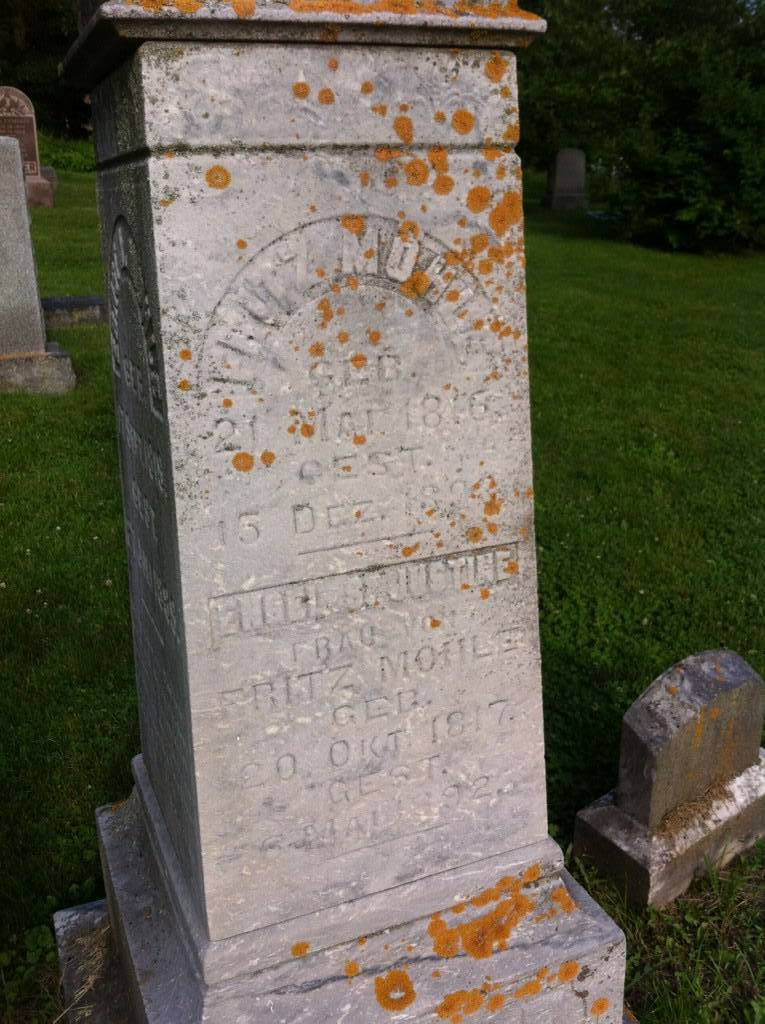obelisk: (64, 0, 628, 1024)
